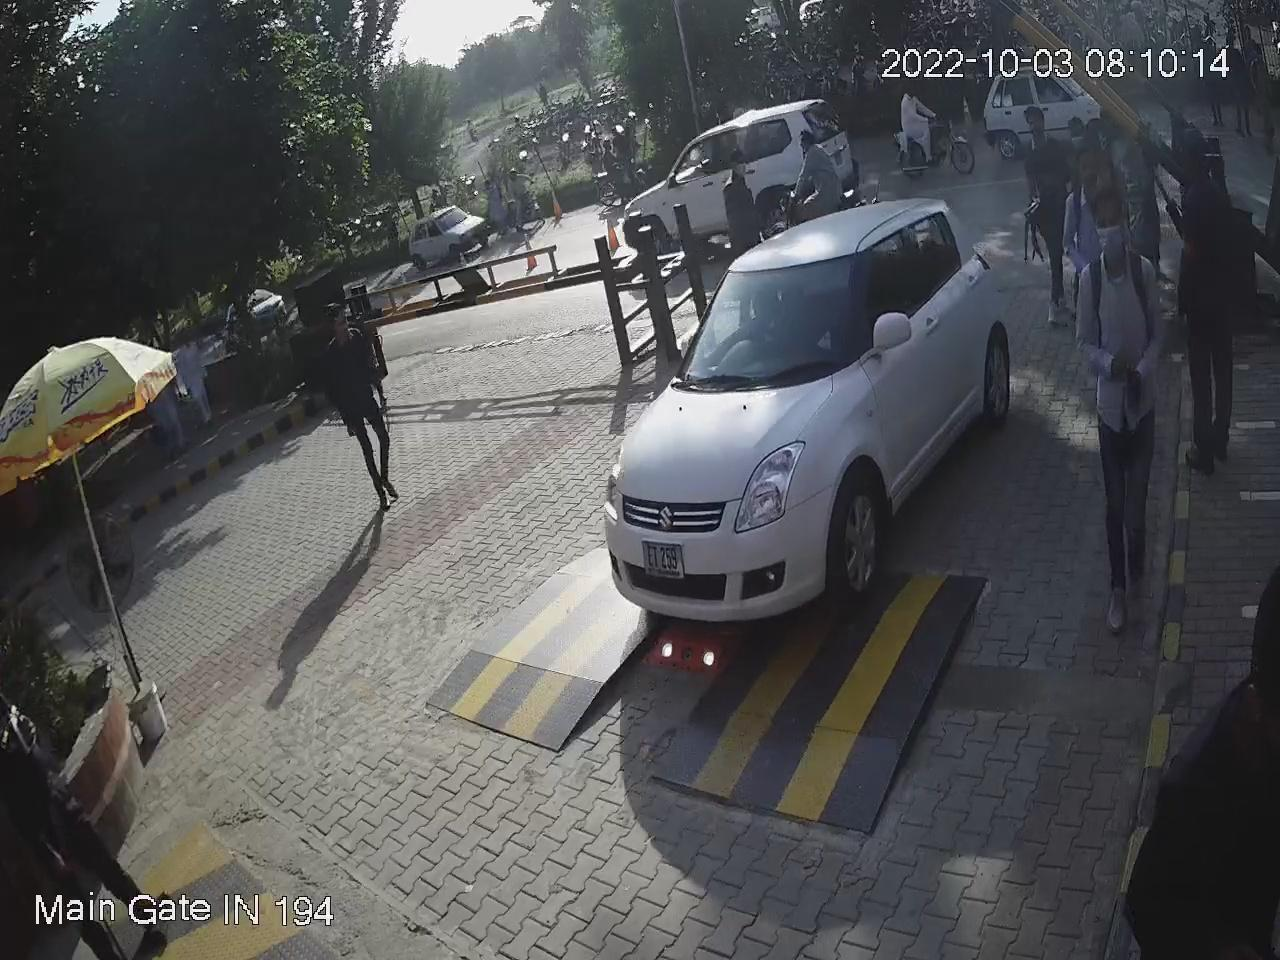windshield: (680, 247, 864, 387)
